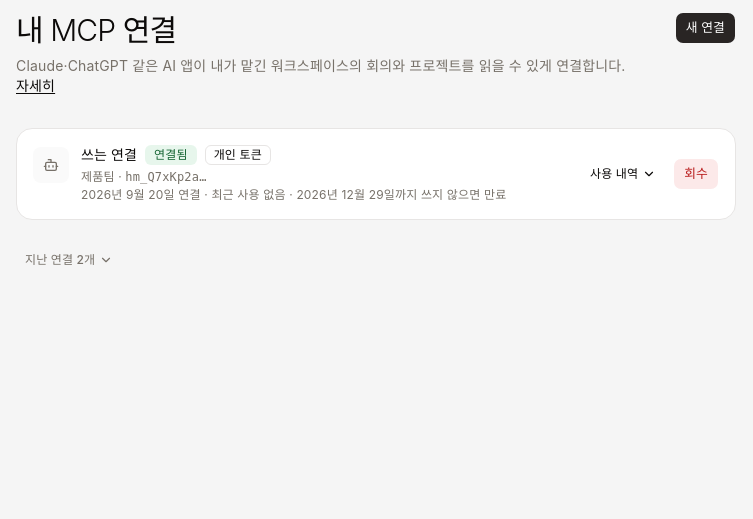
Test case: AgentConnectionsSettings › 지난 연결 › 회수·만료된 연결은 지난 연결로 접히고 펼치면 보인다
Check: the text "쓰는 연결" is shown, box [81, 145, 137, 165]
Check: the text "회수한 연결" is not shown
Click the button "지난 연결 2개" at (69, 260), box [16, 244, 122, 276]
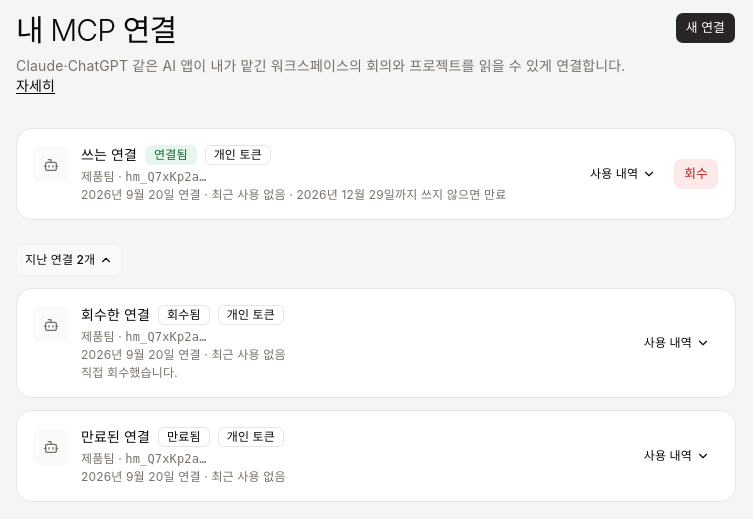
Check: the text "회수한 연결" is shown, box [81, 305, 150, 325]
Check: the text "만료된 연결" is shown, box [81, 427, 150, 447]
